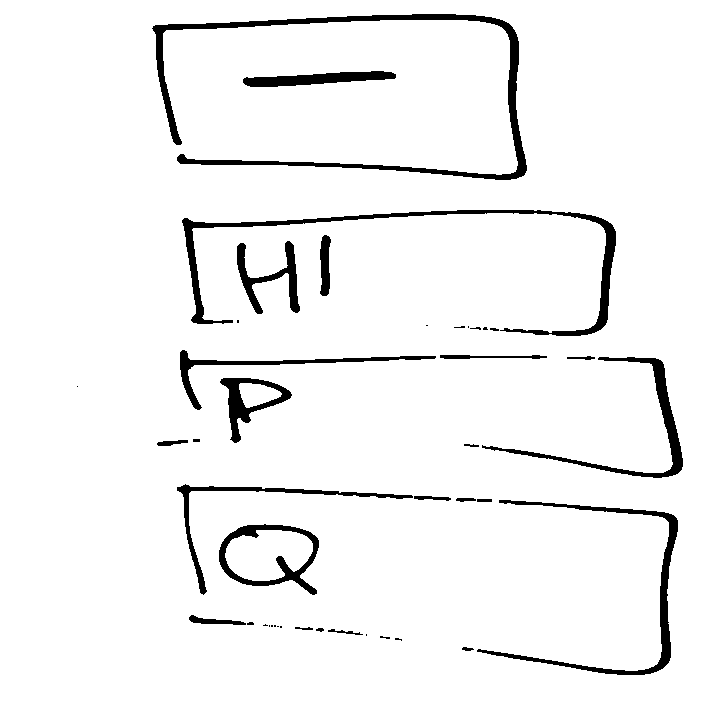button: (148, 11, 538, 193)
heading1: (173, 200, 630, 341)
paragraph: (151, 349, 693, 487)
search bar: (173, 475, 687, 685)
